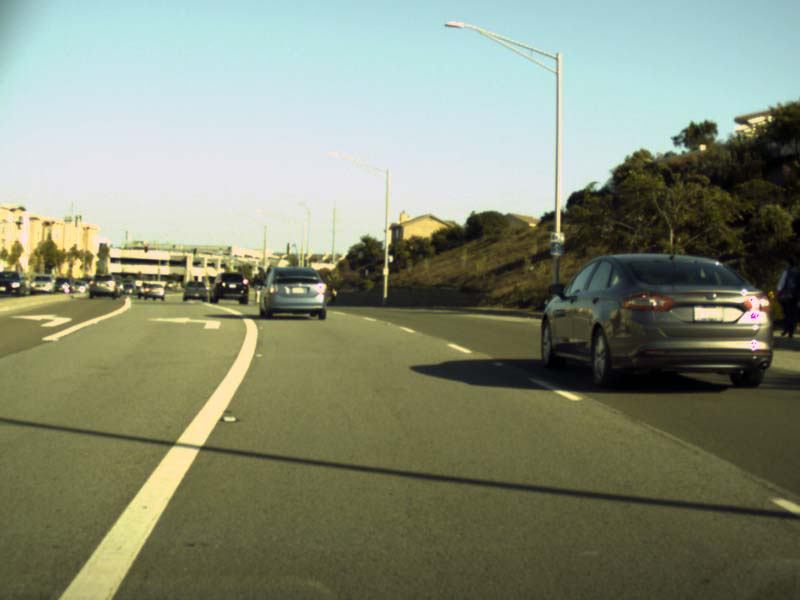Green: (193, 249, 196, 254)
Red: (143, 243, 148, 253)
